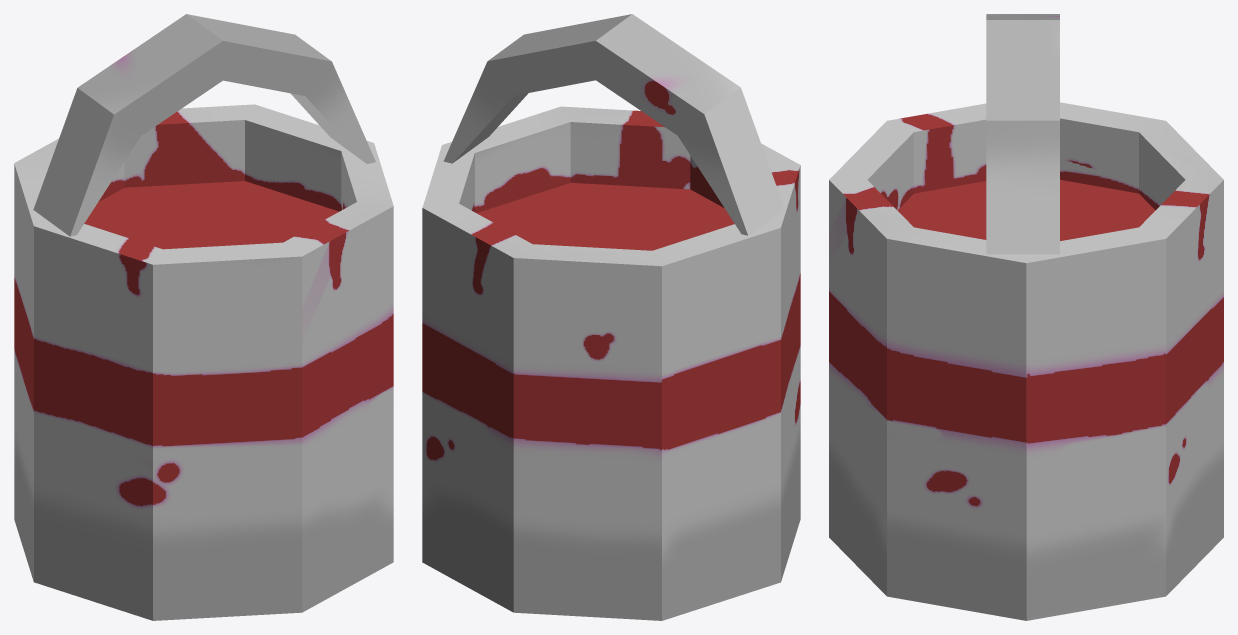
The model's file is Ink Bucket (Red).fbx.
3 views of the same model, side by side, from view 1: azimuth 30°, elevation 25°; view 2: azimuth 150°, elevation 25°; view 3: azimuth 270°, elevation 25° (orthographic).
Parts seen in each view (by area): view 1: Cylinder.001; view 2: Cylinder.001; view 3: Cylinder.001.
Part boxes in pixels (x1,y1,x2,y2): Cylinder.001: (14, 14, 393, 620); Cylinder.001: (422, 14, 800, 620); Cylinder.001: (829, 14, 1223, 620).
Size of the model in its own units: 124 by 180 by 124.
